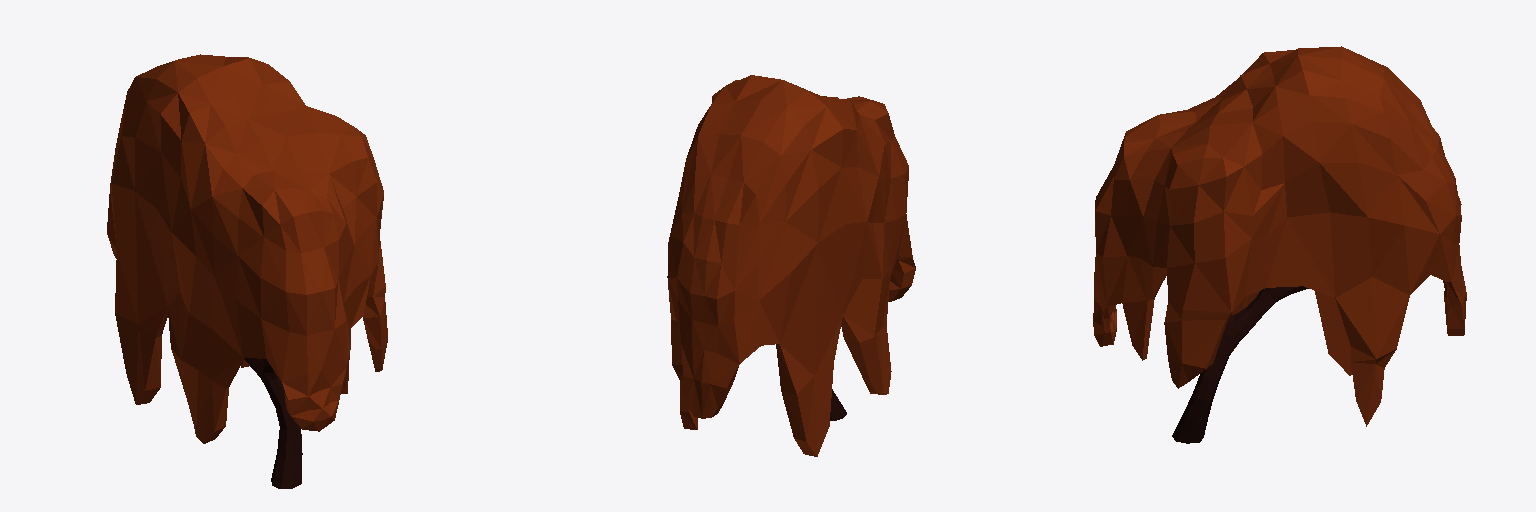
File: Willow.obj
The picture shows the model from 3 angles: view 1: azimuth 30°, elevation 25°; view 2: azimuth 150°, elevation 25°; view 3: azimuth 270°, elevation 25°; orthographic projection.
Parts seen in each view (by area): view 1: Willow_Autumn_1; view 2: Willow_Autumn_1; view 3: Willow_Autumn_1.
Part boxes in pixels (x1,y1,x2,y2): Willow_Autumn_1: (107,54,387,488); Willow_Autumn_1: (667,75,915,456); Willow_Autumn_1: (1093,46,1466,443).
Size of the model in its own units: 1.45 by 2.85 by 2.55.